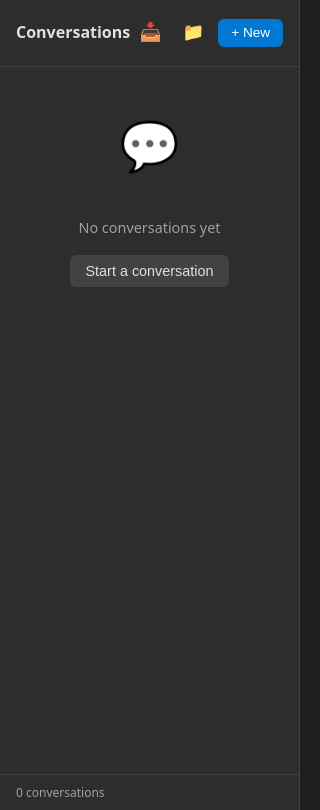
Test: ConversationSidebar Integration Tests › creates a new conversation when clicking + New button
Click the button "+ New" at [251, 33], box [218,19,283,47]
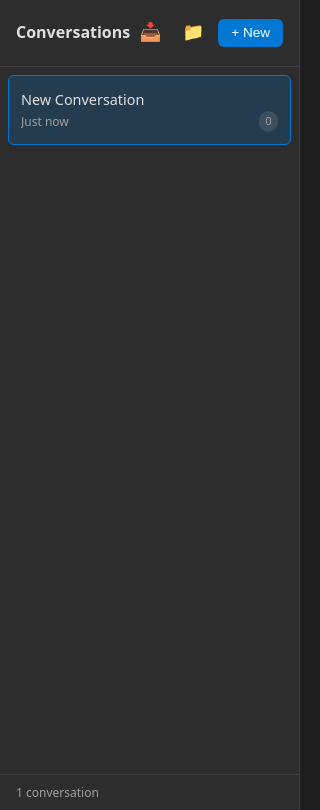
Expected: the text "New Conversation" is shown, [21,90,144,109]
